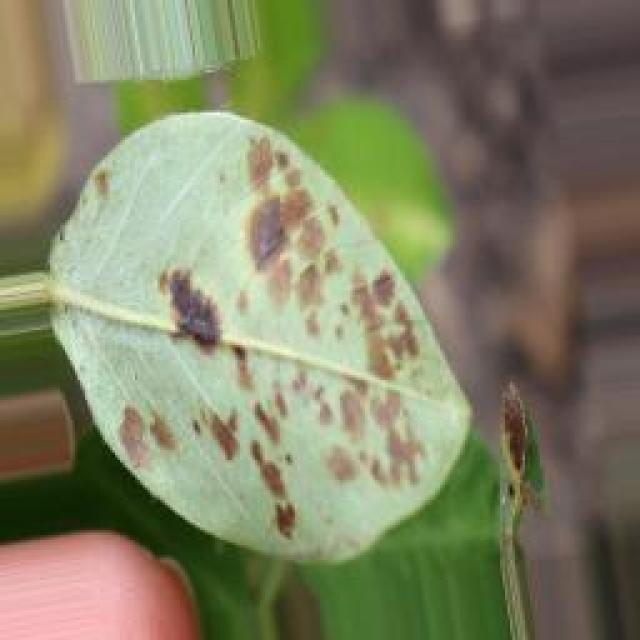Whitefly: (0, 55, 512, 560)
